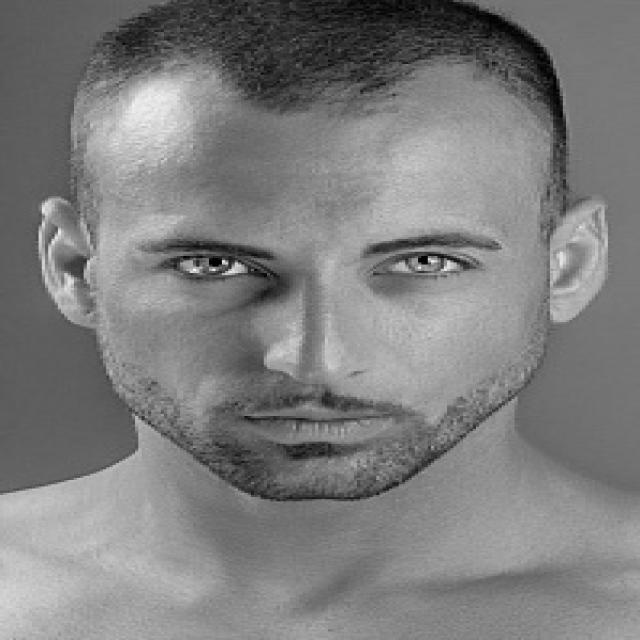Eyes: (138, 232, 516, 286)
